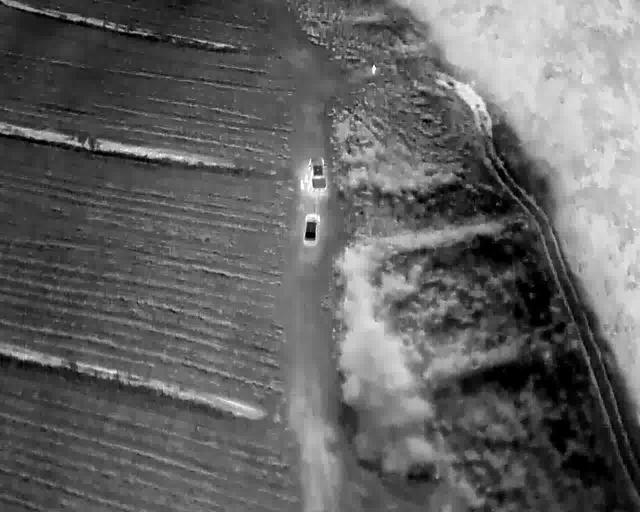car: (309, 155, 325, 190), (303, 213, 319, 244)
person: (299, 179, 304, 190), (371, 64, 376, 74)
